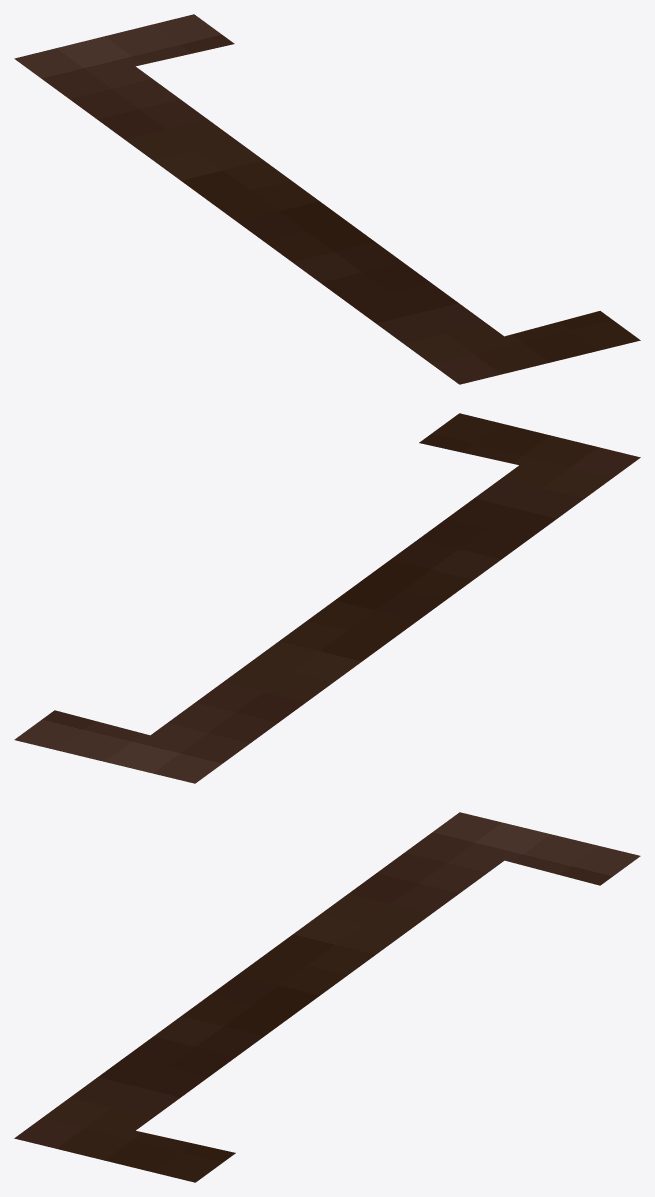
File: spanish_npc_attach_halfarchwindowR_footprint.fbx
The picture shows the model from 3 angles, top to bottom: view 1: azimuth 30°, elevation 25°; view 2: azimuth 150°, elevation 25°; view 3: azimuth 330°, elevation 25°; orthographic projection.
Parts seen in each view (by area): view 1: footprint; view 2: footprint; view 3: footprint.
Part boxes in pixels (bbox=[...]): footprint: bbox=[14, 14, 640, 384]; footprint: bbox=[14, 413, 640, 783]; footprint: bbox=[14, 812, 640, 1182].
Size of the model in its own units: 339 by 0.000235 by 1442.
Materials: 1 (1 with a texture image).
